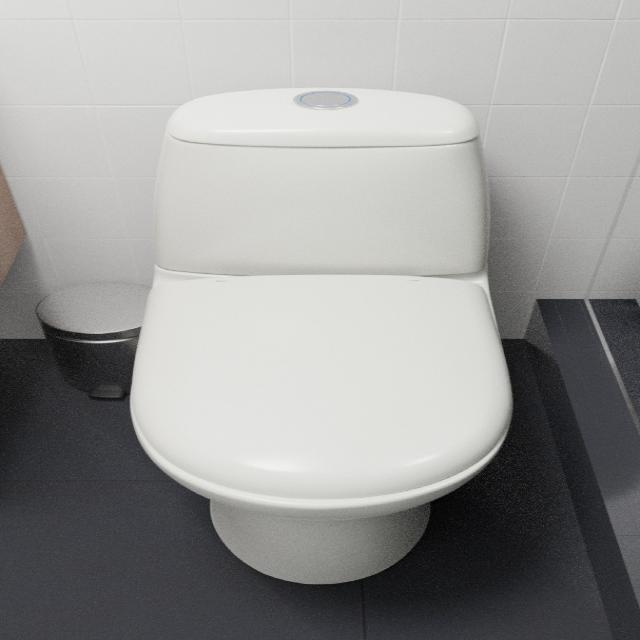toilet: (126, 86, 514, 585)
